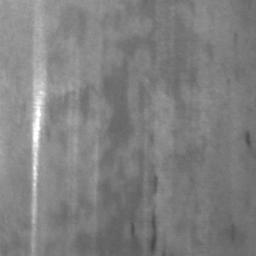Bright scratch: (29, 0, 47, 256)
